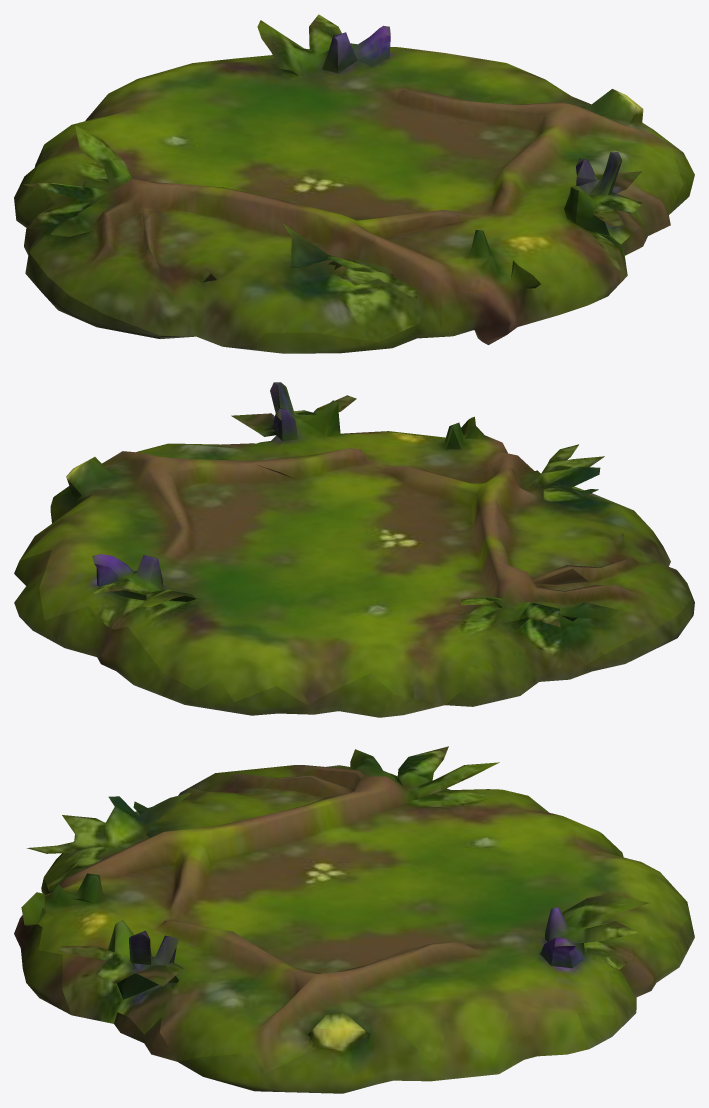
The model's file is d_racines_butte.glb.
The picture shows the model from 3 angles, top to bottom: view 1: azimuth 30°, elevation 25°; view 2: azimuth 150°, elevation 25°; view 3: azimuth 270°, elevation 25°; orthographic projection. The views are drawn at different scales.
Parts seen in each view (by area): view 1: geometry_0; view 2: geometry_0; view 3: geometry_0.
Part boxes in pixels (<box>): geometry_0: <box>14,14,694,353</box>; geometry_0: <box>14,382,694,717</box>; geometry_0: <box>14,746,694,1093</box>.
Bounding box in the file's own units: 1 × 0.1758 × 0.9279.
Materials: 1 (1 with a texture image).
